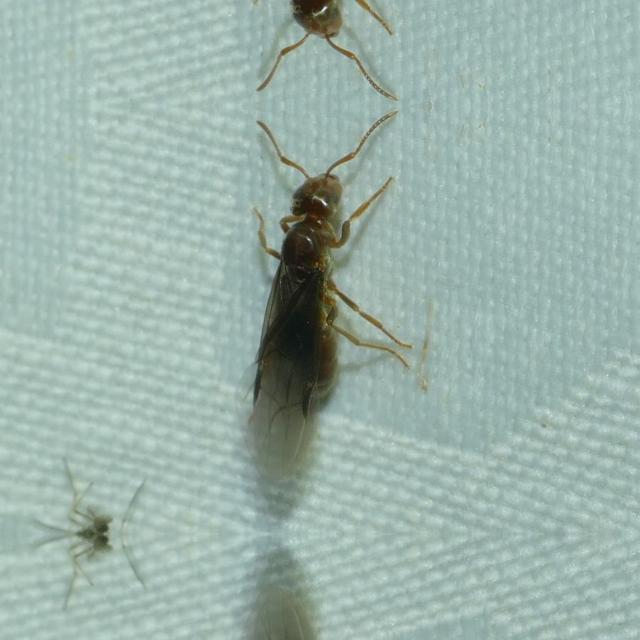Lasius: (210, 116, 414, 504), (210, 0, 414, 94), (210, 560, 414, 640)
